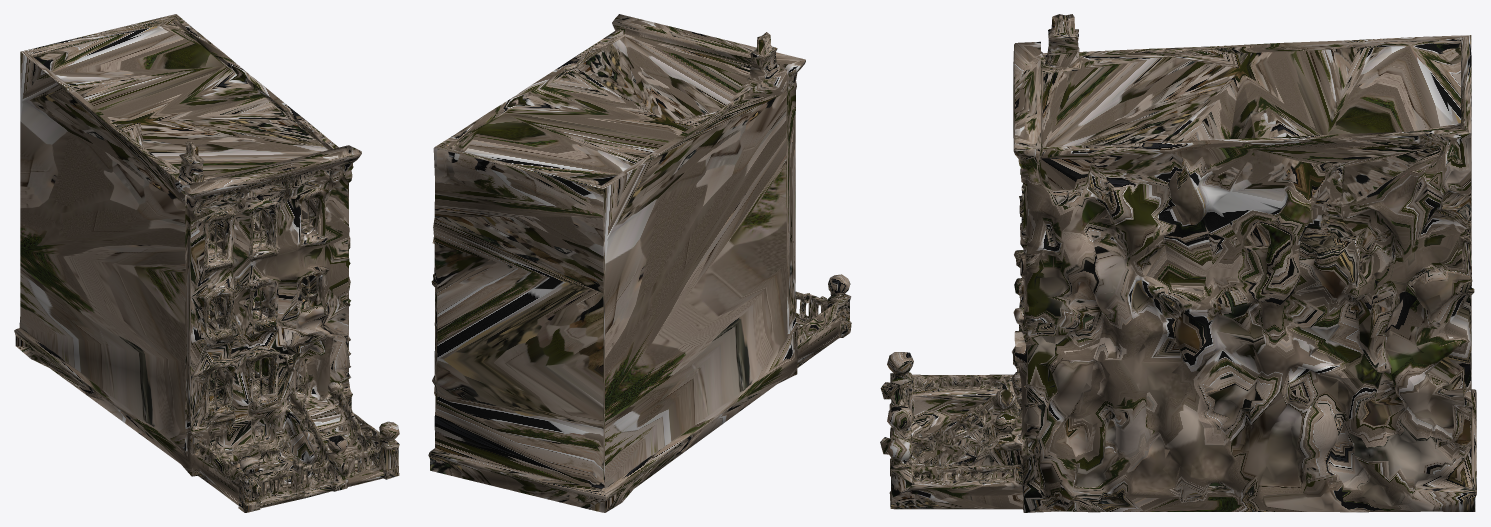
Rendered from semantic-primitive-v01.fbx.
The picture shows the model from 3 angles, left to right: view 1: azimuth 30°, elevation 25°; view 2: azimuth 150°, elevation 25°; view 3: azimuth 270°, elevation 25°; orthographic projection. The views are drawn at different scales.
Visible parts, largest first — view 1: CF_PROXY_BUILDING_GENERATED; view 2: CF_PROXY_BUILDING_GENERATED; view 3: CF_PROXY_BUILDING_GENERATED.
Part boxes in pixels (box(x1,y1,x2,y2)): CF_PROXY_BUILDING_GENERATED: box(14, 14, 399, 512); CF_PROXY_BUILDING_GENERATED: box(428, 14, 851, 512); CF_PROXY_BUILDING_GENERATED: box(880, 14, 1476, 512).
Bounding box in the file's own units: 754 × 1298 × 1723.
